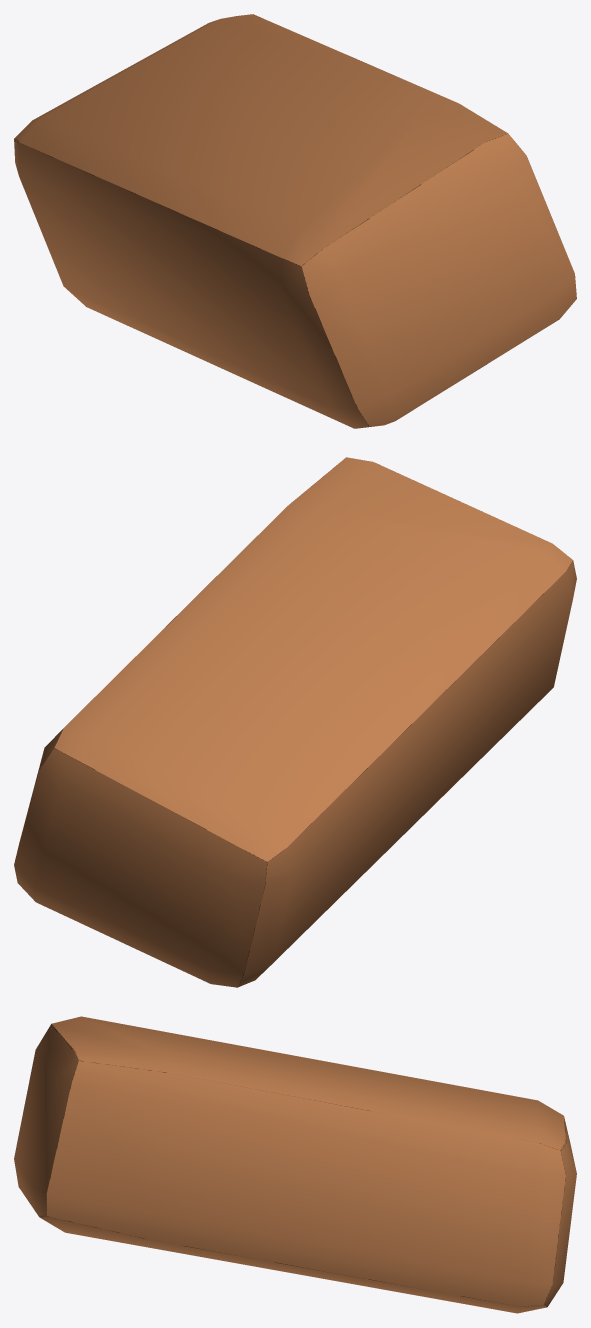
3 views of the same model, one above another, from view 1: azimuth 30°, elevation 25°; view 2: azimuth 150°, elevation 25°; view 3: azimuth 270°, elevation 25° (orthographic). The views are drawn at different scales.
Parts seen in each view (by area): view 1: Cube.015_Baked; view 2: Cube.015_Baked; view 3: Cube.015_Baked.
Boxes of the visible parts, left/top/right/bottom form: Cube.015_Baked: left=14, top=14, right=576, bottom=428; Cube.015_Baked: left=14, top=457, right=576, bottom=987; Cube.015_Baked: left=14, top=1016, right=576, bottom=1313.
Size of the model in its own units: 8.77 by 8.87 by 16.62.
1 material, 1 textured.
